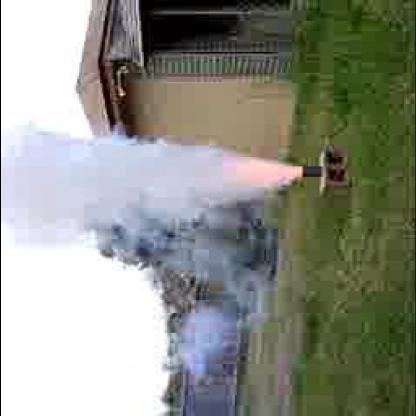Smoke: (6, 135, 289, 236)
